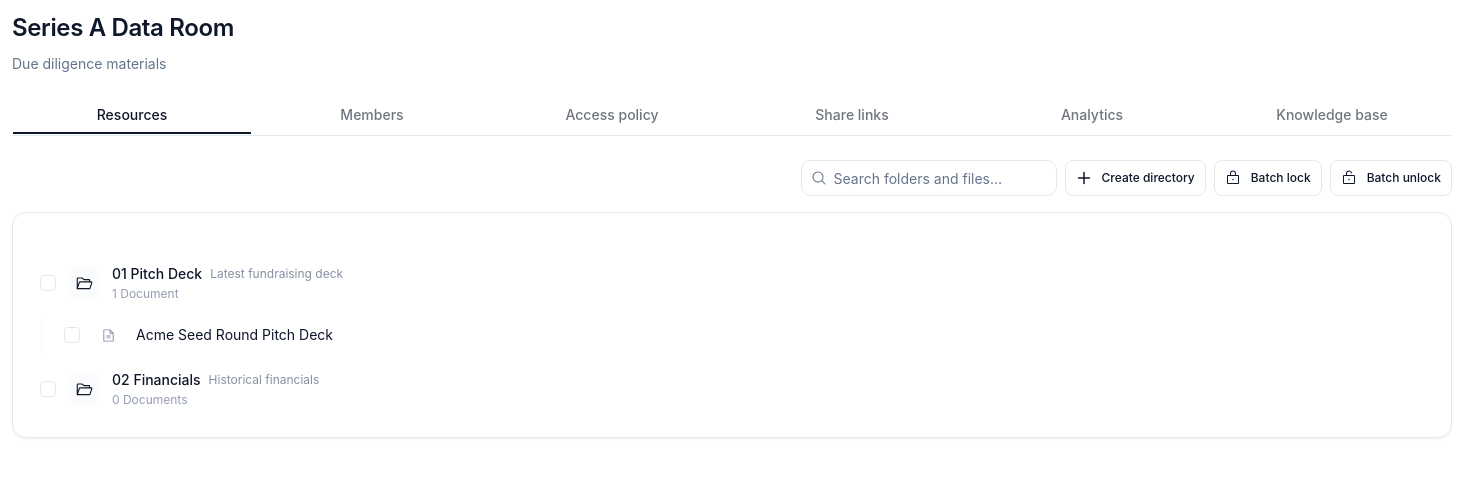
Test: DealRoomDetailPage › creates a subdirectory from the selection toolbar
Check: the heading "Series A Data Room" is shown, box [12, 13, 234, 42]
Step 1. Click the checkbox named "02 Financials" → (48, 389), box [40, 381, 56, 397]
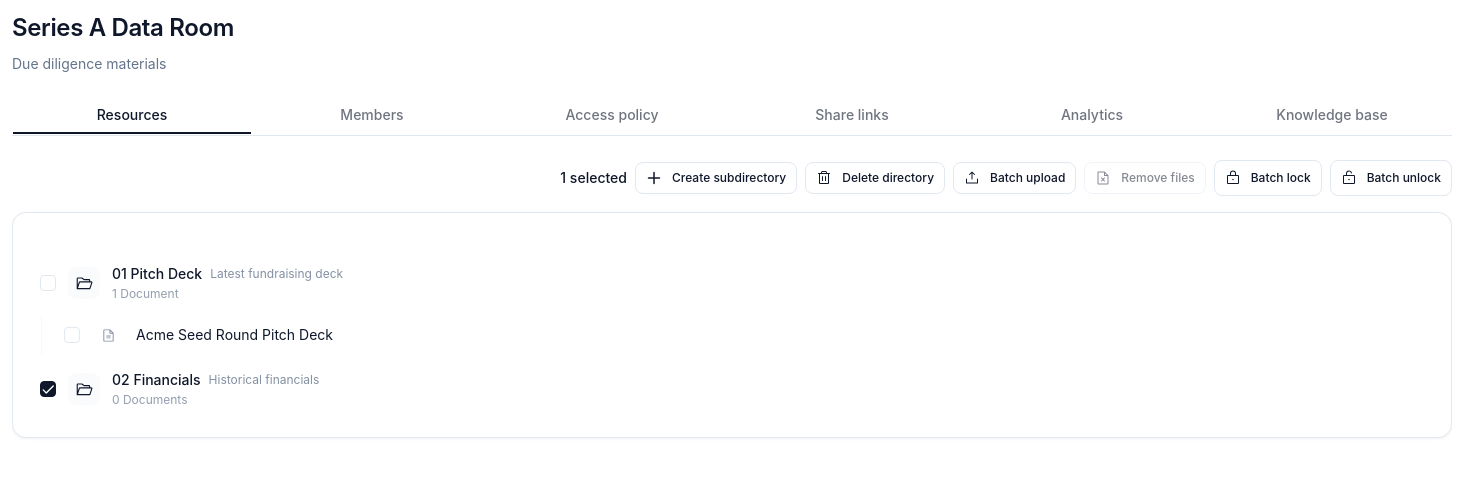
Step 2. Click the button with test id "folder-tree-bulk-create-subfolder" → (716, 178), box [635, 162, 797, 194]
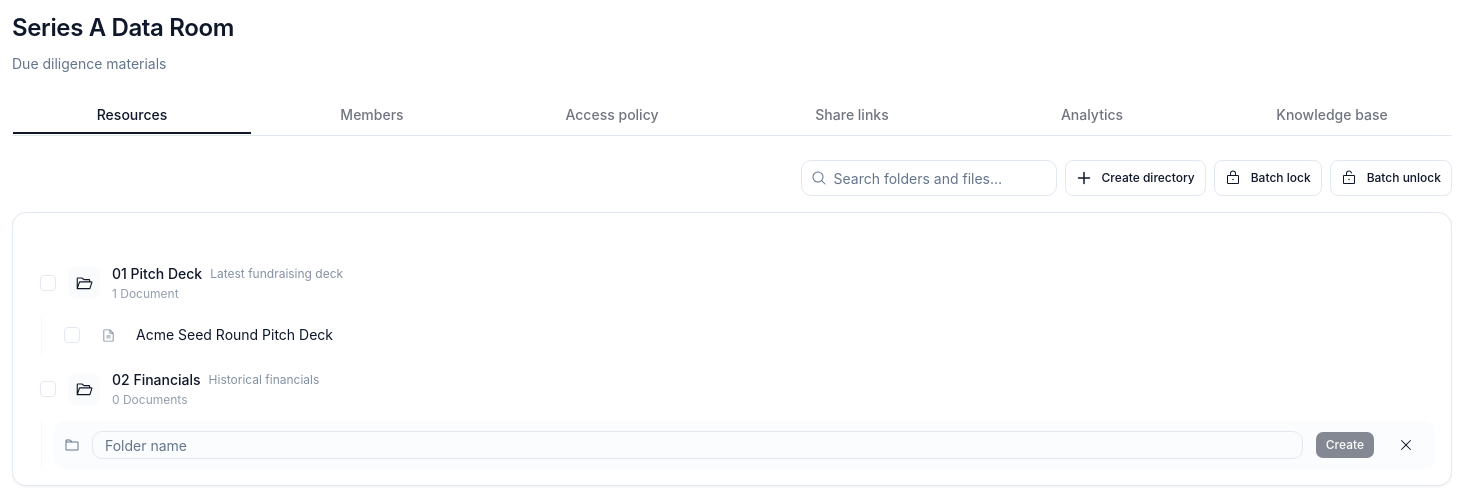
Check: the field with placeholder "Folder name" is shown, box [92, 431, 1303, 459]
